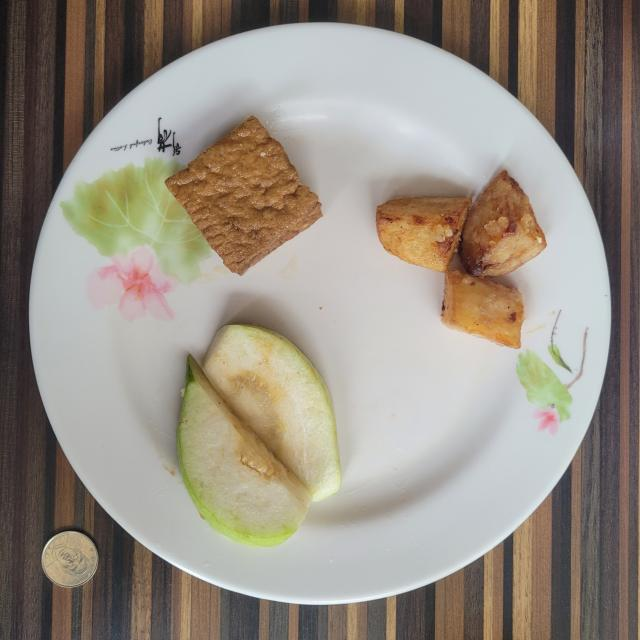coin: (41, 531, 99, 588)
egg tofu: (166, 116, 322, 275)
fried potato: (376, 170, 546, 349)
guava -sliced-: (178, 325, 341, 546)
